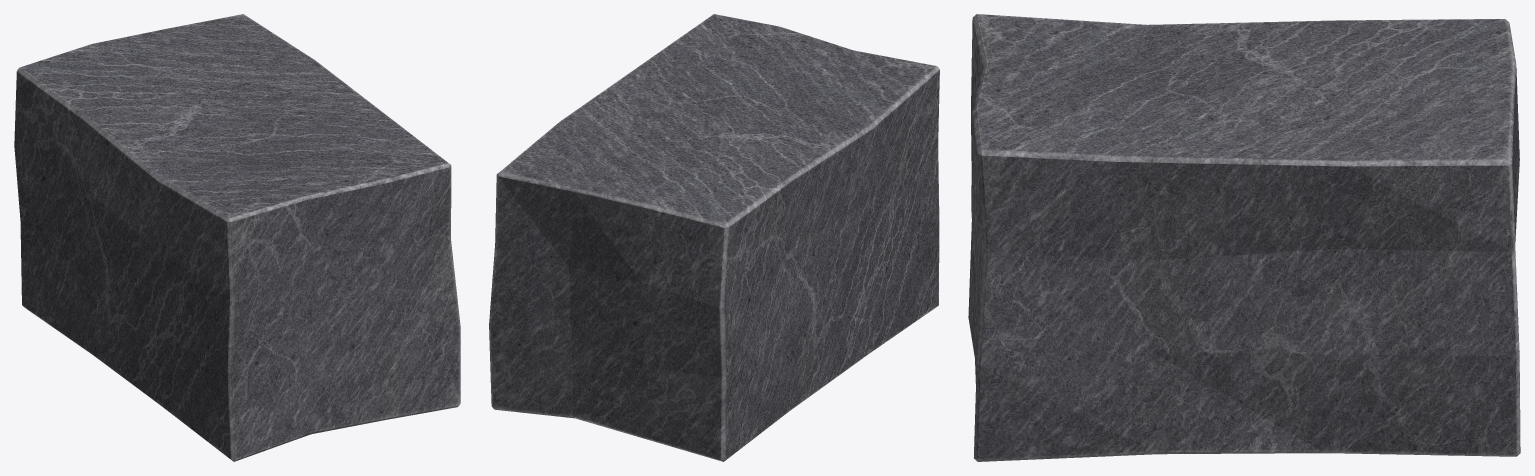
The model's file is block.glb.
The picture shows the model from 3 angles, left to right: view 1: azimuth 30°, elevation 25°; view 2: azimuth 150°, elevation 25°; view 3: azimuth 270°, elevation 25°; orthographic projection. The views are drawn at different scales.
Visible parts, largest first — view 1: cubeMat; view 2: cubeMat; view 3: cubeMat.
Boxes of the visible parts, bbox=[...] form: cubeMat: bbox=[14, 14, 460, 461]; cubeMat: bbox=[489, 14, 939, 461]; cubeMat: bbox=[968, 14, 1520, 461].
Bounding box in the file's own units: 0.4174 × 0.4144 × 0.6705.
Materials: 1 (1 with a texture image).
